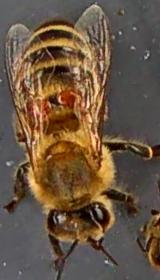varroa_mite: (51, 86, 80, 106)
